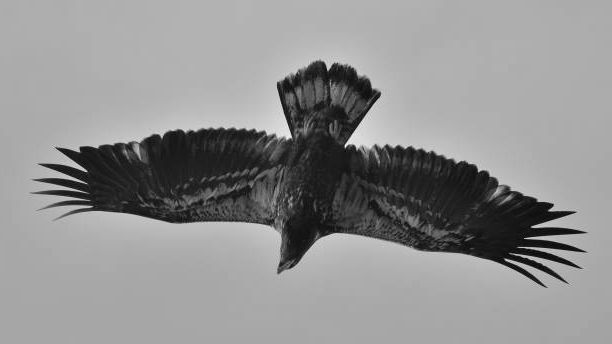Bird: (24, 55, 590, 293)
